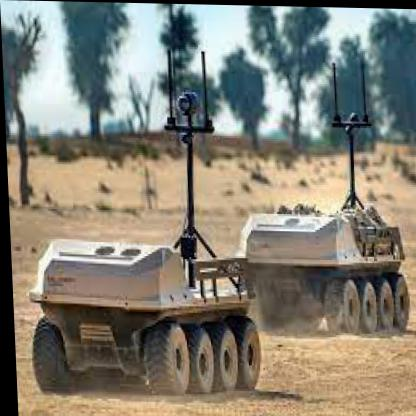UGV: (23, 235, 259, 394), (239, 212, 409, 336)
